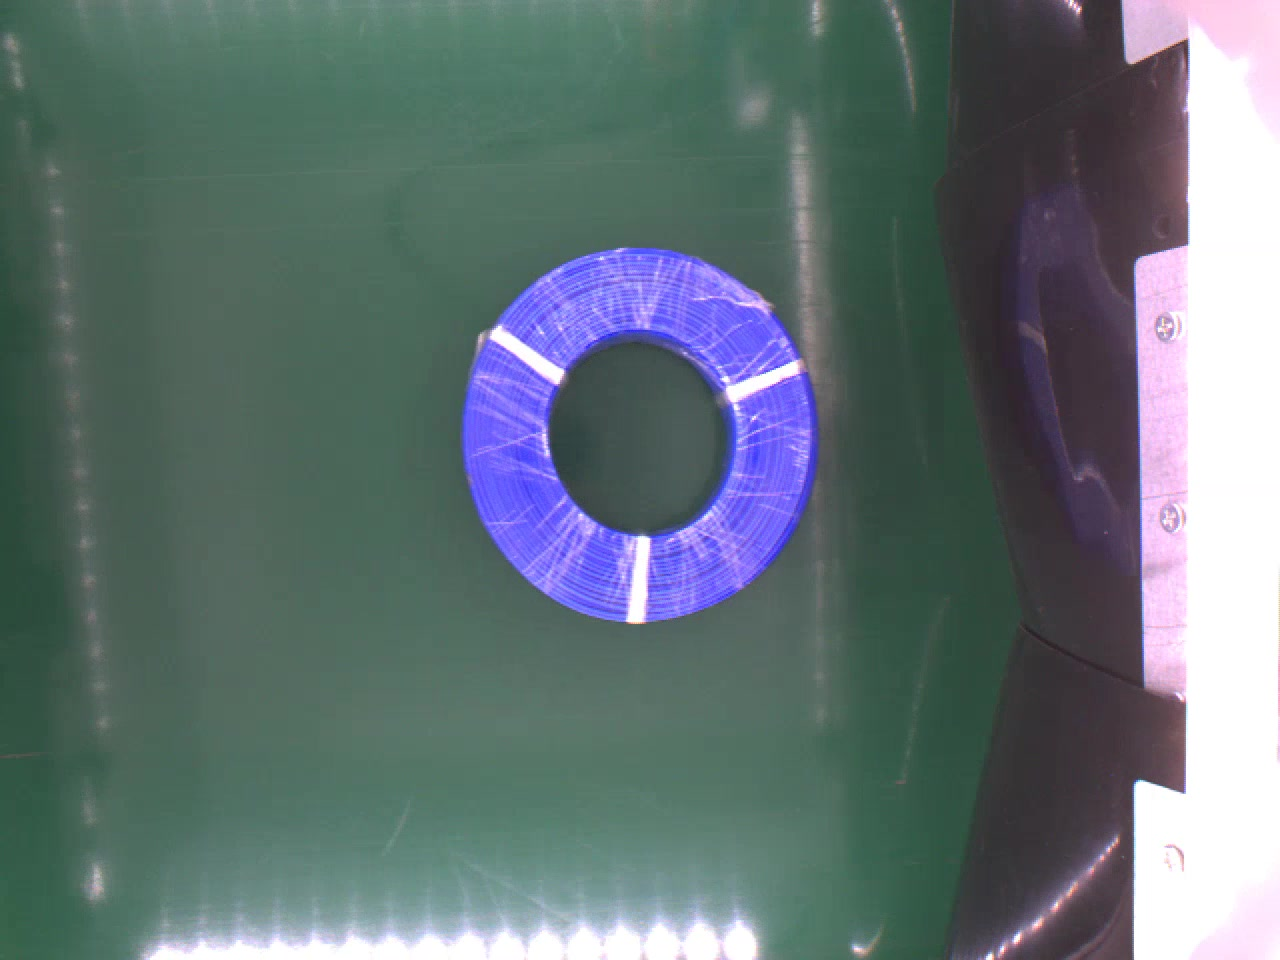blue: (450, 241, 834, 624)
